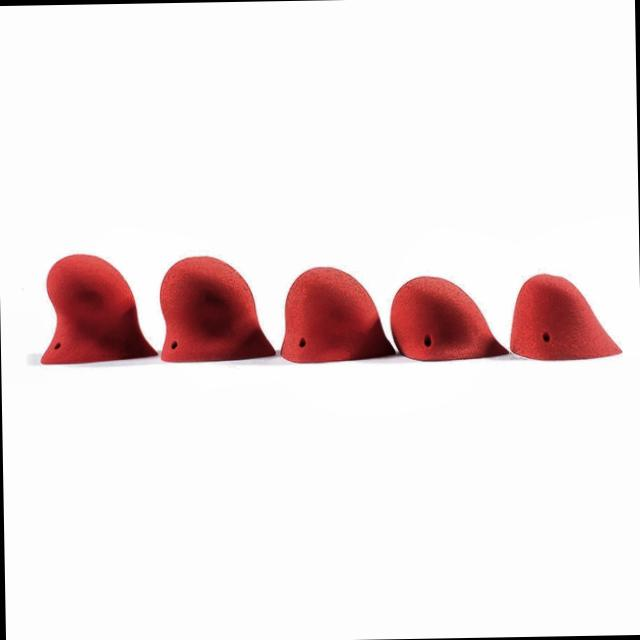Hold: (157, 248, 280, 360), (38, 254, 151, 362), (285, 256, 389, 361), (512, 271, 618, 360), (398, 271, 504, 358)
